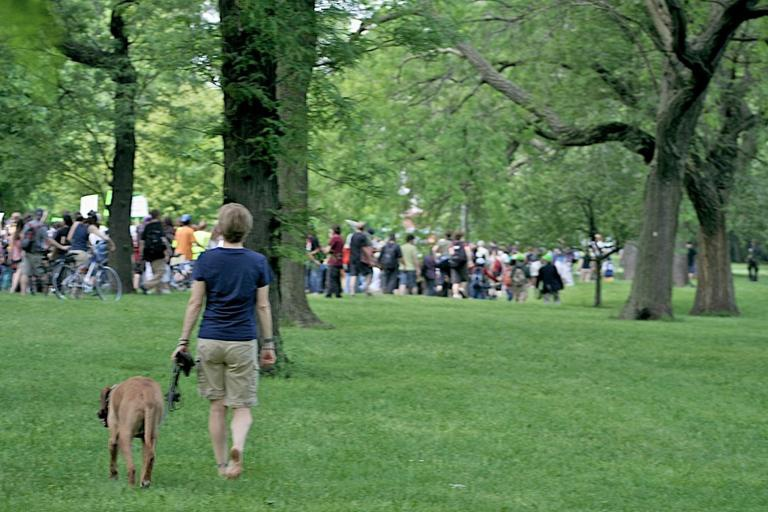non-vehicle: (53, 239, 122, 302), (30, 249, 68, 291), (170, 250, 200, 290)
